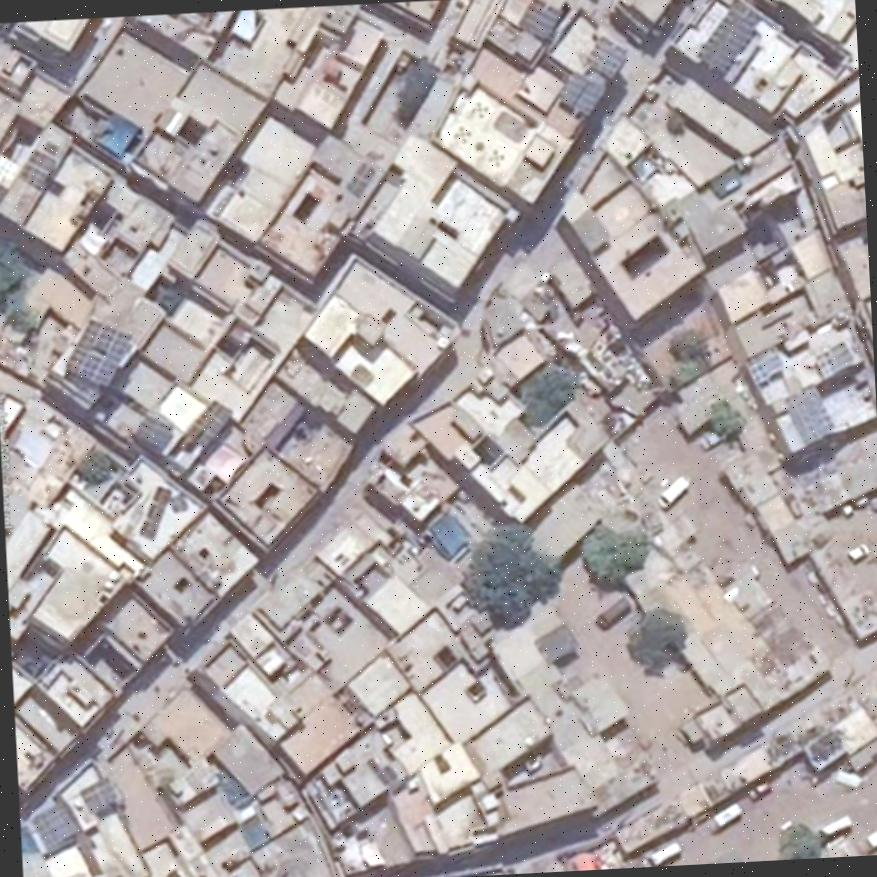Solarpanel: (695, 0, 761, 72), (66, 318, 131, 384), (785, 386, 833, 446), (30, 804, 78, 847), (559, 72, 606, 114), (586, 36, 626, 78), (518, 0, 559, 39), (140, 486, 169, 539), (79, 778, 119, 813)
